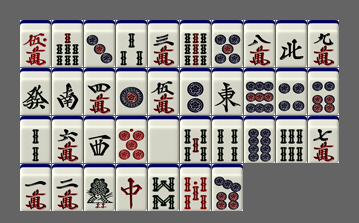0m: (20, 20, 51, 67)
0p: (116, 116, 147, 163)
0s: (180, 164, 211, 211)
1m: (20, 164, 51, 211)
1p: (116, 68, 147, 115)
1s: (84, 164, 115, 211)
1z: (212, 68, 243, 115)
2m: (52, 164, 83, 211)
2p: (180, 68, 211, 115)
2s: (20, 116, 51, 163)
2z: (52, 68, 83, 115)
3m: (148, 20, 179, 67)
3p: (84, 20, 115, 67)
3s: (116, 20, 147, 67)
3z: (84, 116, 115, 163)
4m: (84, 68, 115, 115)
4p: (276, 68, 307, 115)
4s: (212, 116, 243, 163)
4z: (276, 20, 307, 67)
5m: (148, 68, 179, 115)
5p: (212, 20, 243, 67)
5s: (180, 116, 211, 163)
5z: (148, 116, 179, 163)
6m: (52, 116, 83, 163)
6p: (308, 68, 339, 115)
6s: (276, 116, 307, 163)
6z: (20, 68, 51, 115)
7m: (308, 116, 339, 163)
7p: (212, 164, 243, 211)
7s: (52, 20, 83, 67)
7z: (116, 164, 147, 211)
8m: (244, 20, 275, 67)
8p: (244, 116, 275, 163)
8s: (148, 164, 179, 211)
9m: (308, 20, 339, 67)
9p: (244, 68, 275, 115)
9s: (180, 20, 211, 67)
